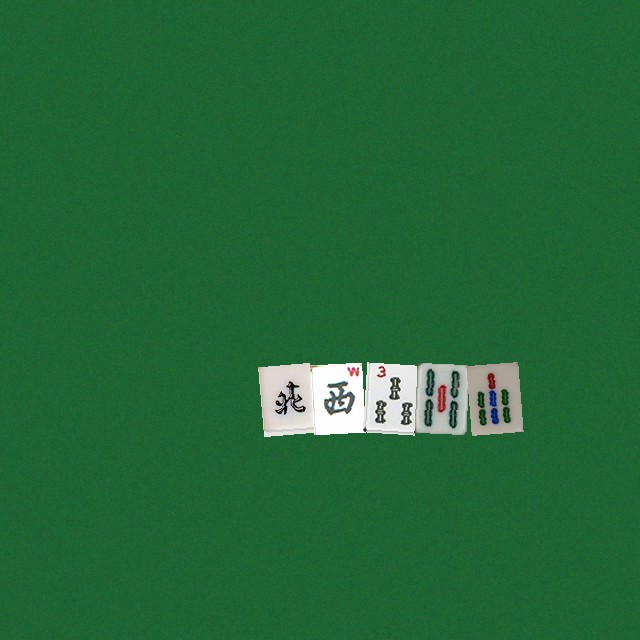tile: (258, 362, 310, 432), (310, 362, 362, 432), (362, 362, 414, 432), (414, 362, 466, 432), (466, 362, 518, 432)
